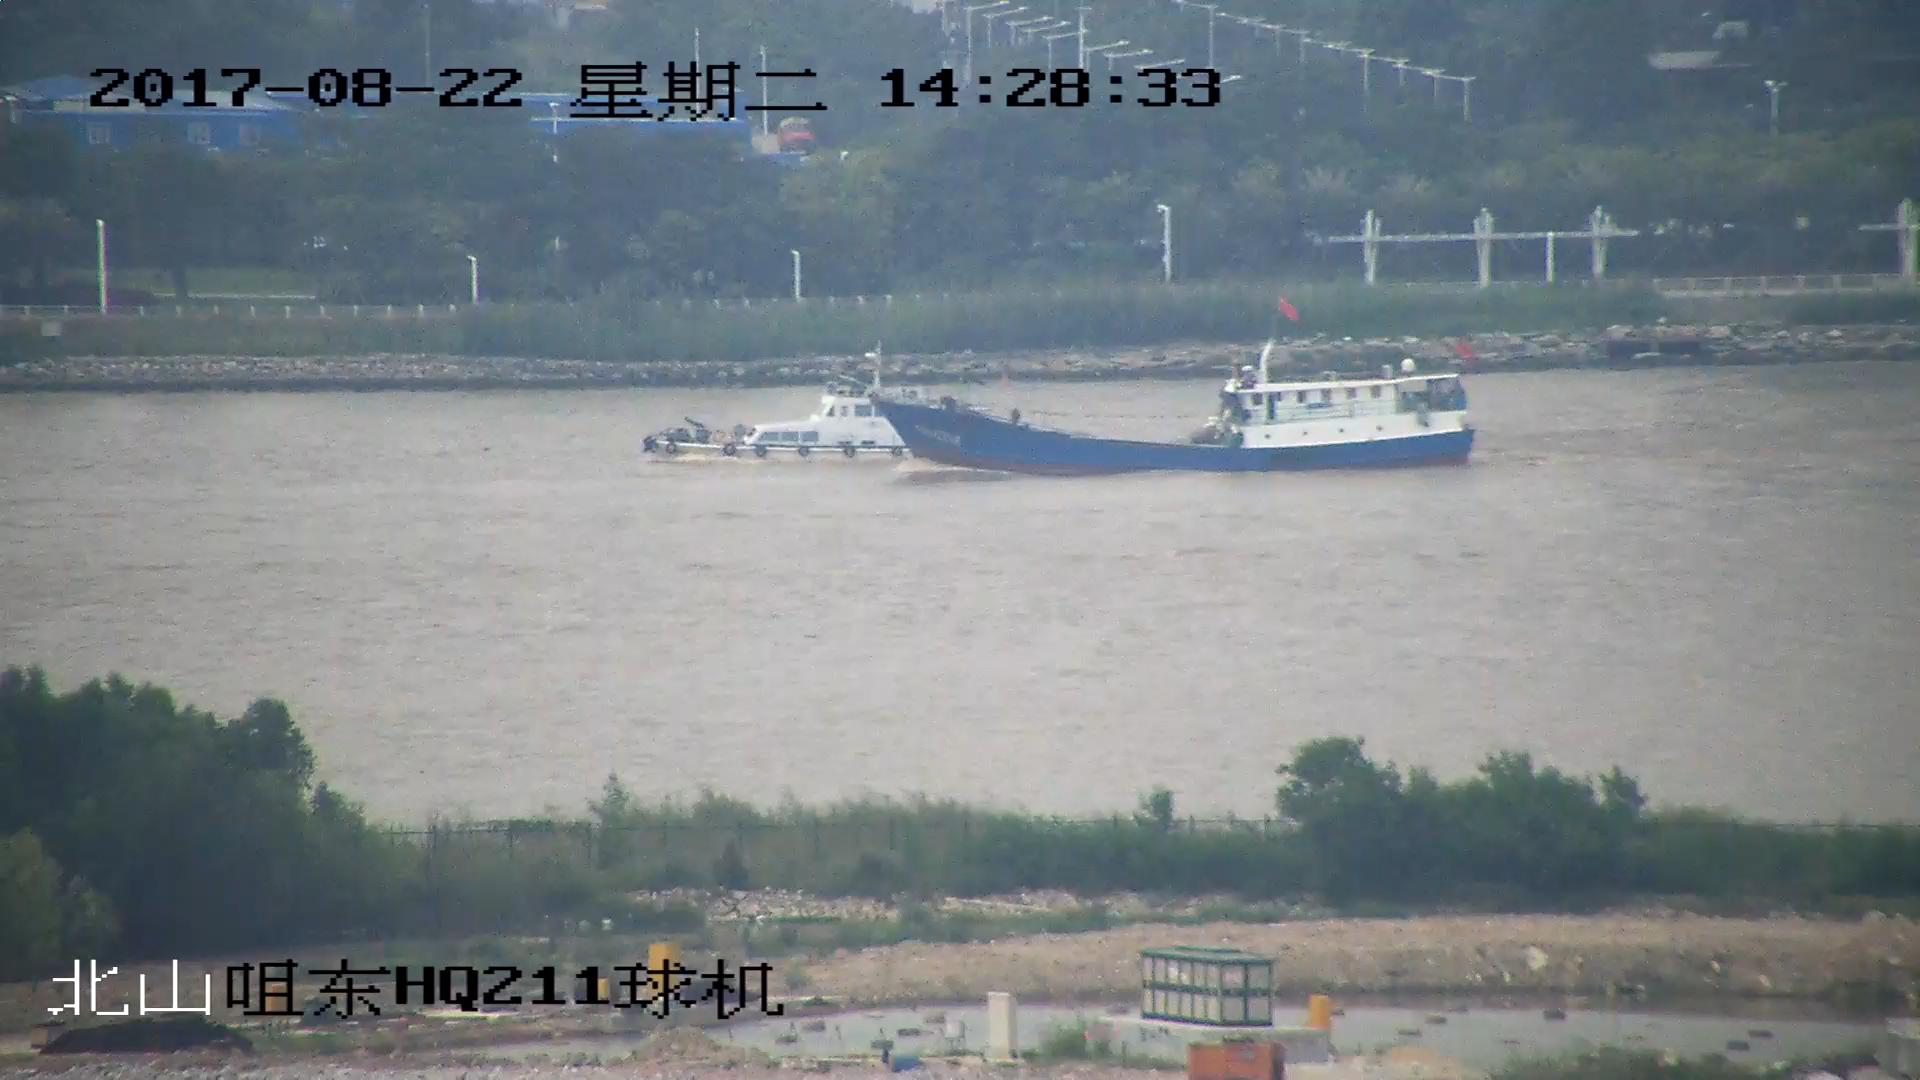fishing boat: (872, 291, 1484, 478)
passenger ship: (648, 374, 931, 463)
